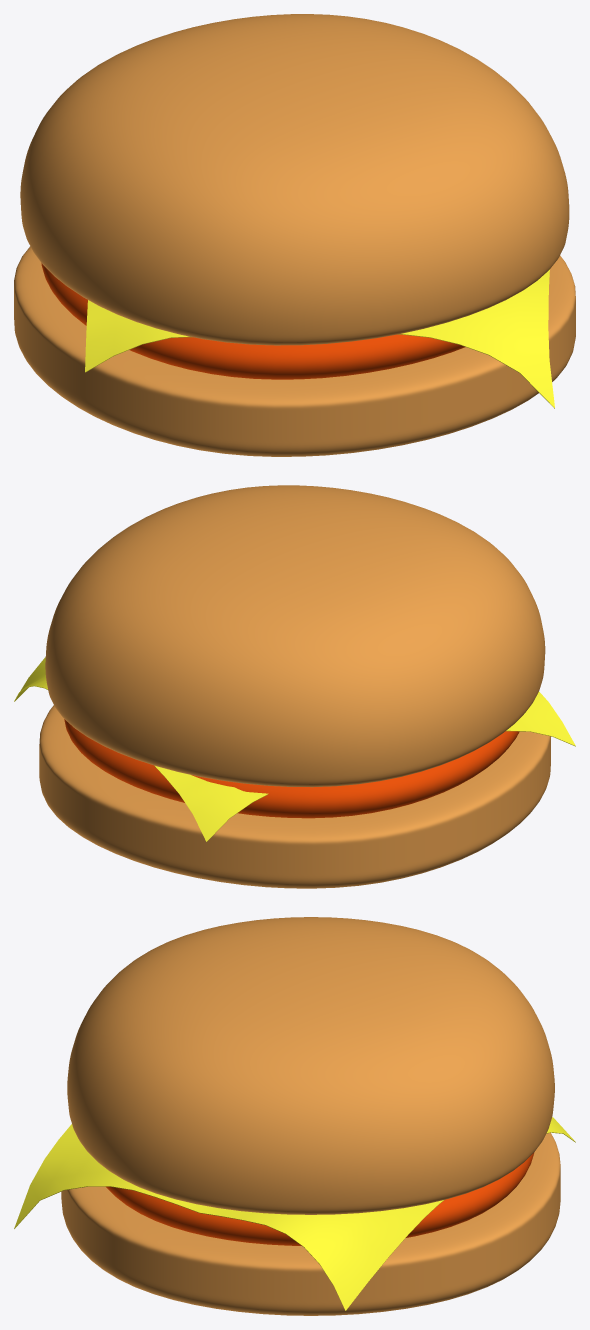
The model's file is burger.glb.
The picture shows the model from 3 angles, top to bottom: view 1: azimuth 30°, elevation 25°; view 2: azimuth 150°, elevation 25°; view 3: azimuth 270°, elevation 25°; orthographic projection. The views are drawn at different scales.
Visible parts, largest first — view 1: Cube.002, Cube, Cube.001, Plane; view 2: Cube.002, Cube, Cube.001, Plane; view 3: Cube.002, Cube, Plane, Cube.001.
Boxes of the visible parts, bbox=[...] form: Cube.002: bbox=[20, 14, 569, 345]; Cube: bbox=[14, 246, 575, 456]; Cube.001: bbox=[41, 263, 465, 379]; Plane: bbox=[85, 269, 554, 408]; Cube.002: bbox=[45, 485, 545, 787]; Cube: bbox=[39, 705, 550, 888]; Cube.001: bbox=[64, 719, 519, 818]; Plane: bbox=[14, 657, 575, 841]; Cube.002: bbox=[67, 917, 554, 1214]; Cube: bbox=[61, 1132, 560, 1315]; Plane: bbox=[14, 1117, 575, 1310]; Cube.001: bbox=[106, 1152, 534, 1245].
Bounding box in the file's own units: 1.06 × 0.5403 × 1.04.
